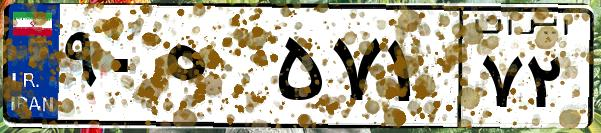0: (110, 28, 158, 98)
1: (385, 28, 445, 110)
2: (525, 38, 570, 115)
5: (270, 28, 330, 110)
7: (330, 28, 385, 110), (475, 38, 525, 113)
9: (57, 26, 110, 100)
ه: (158, 20, 270, 120)
